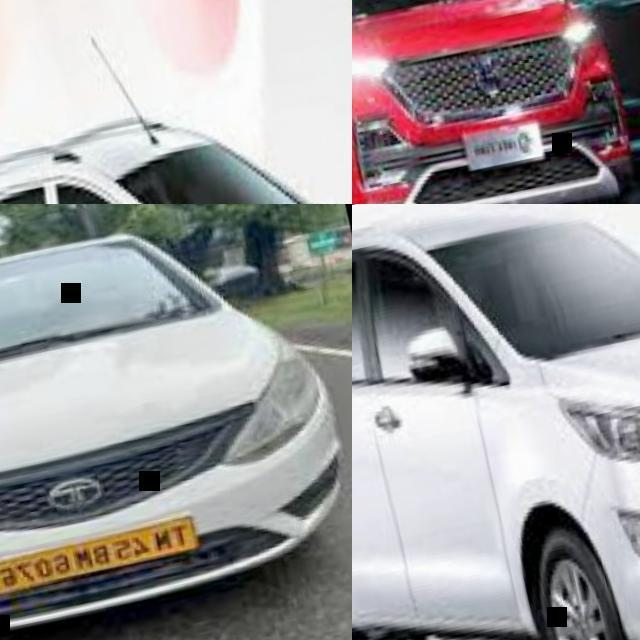car: (344, 9, 639, 639), (0, 227, 343, 639)
